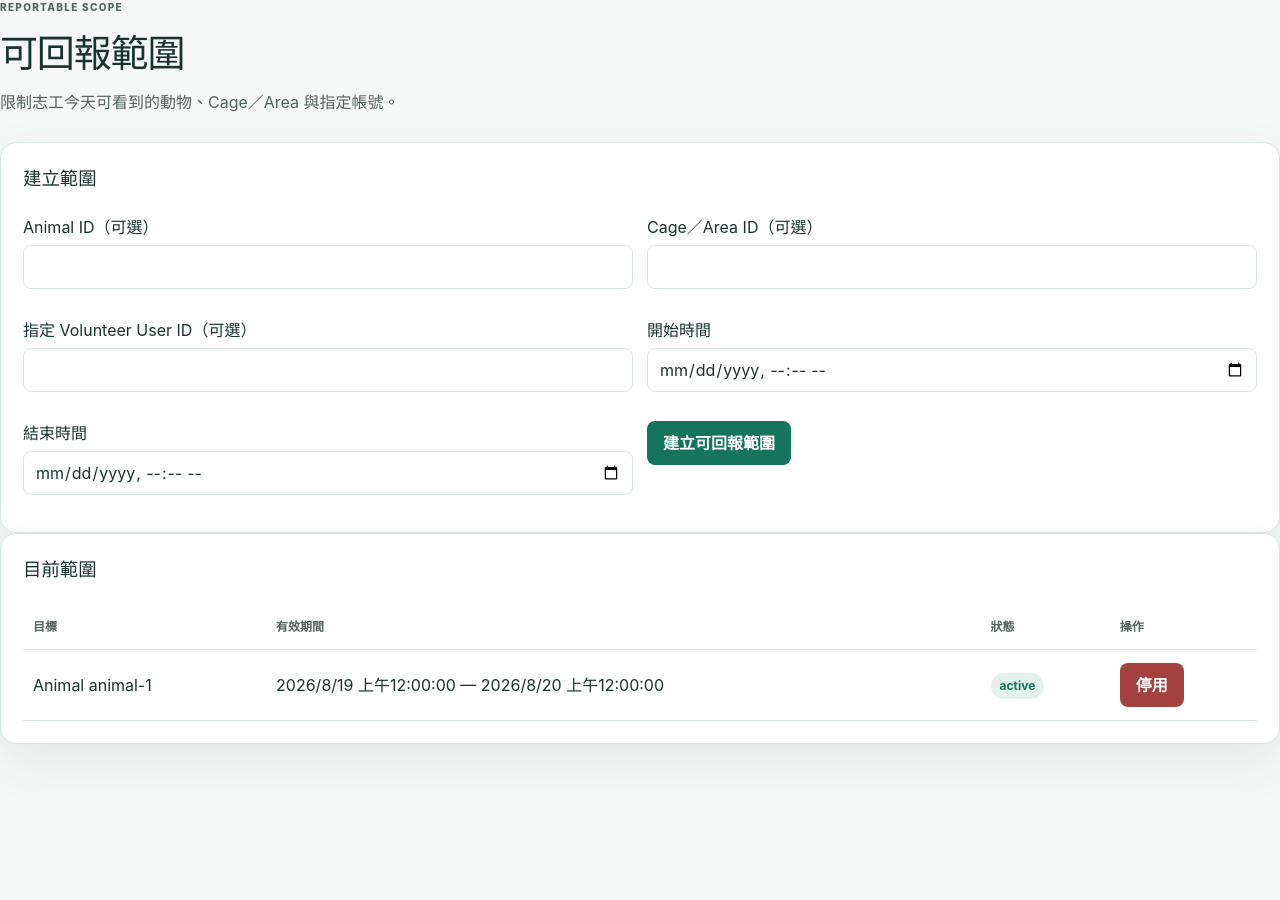
Test case: reportable scope governance actions › requires confirmation before deactivating a reportable scope
Click the button "停用" at (1152, 685), box [1120,663,1184,707]
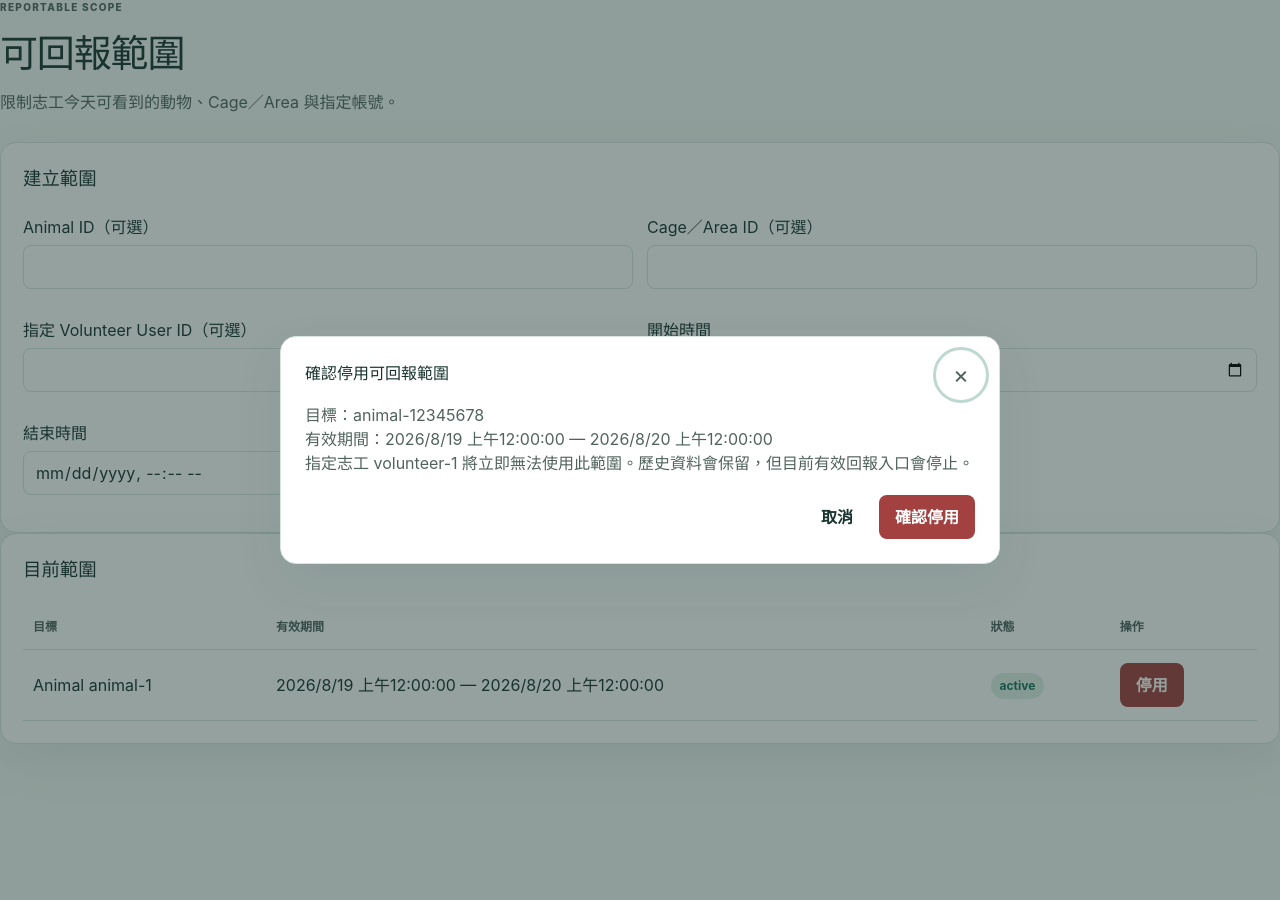
Expected: the text "2026" is shown, [276,675,456,695]
Expected: the text "確認停用可回報範圍" is shown, [305,361,449,385]
Expected: the text "animal-12345678" is shown, [353,405,484,425]
